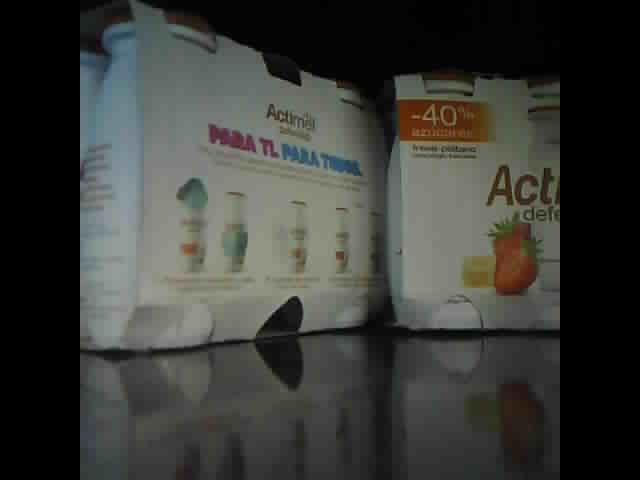actimel: (81, 1, 388, 351), (394, 68, 559, 333)
